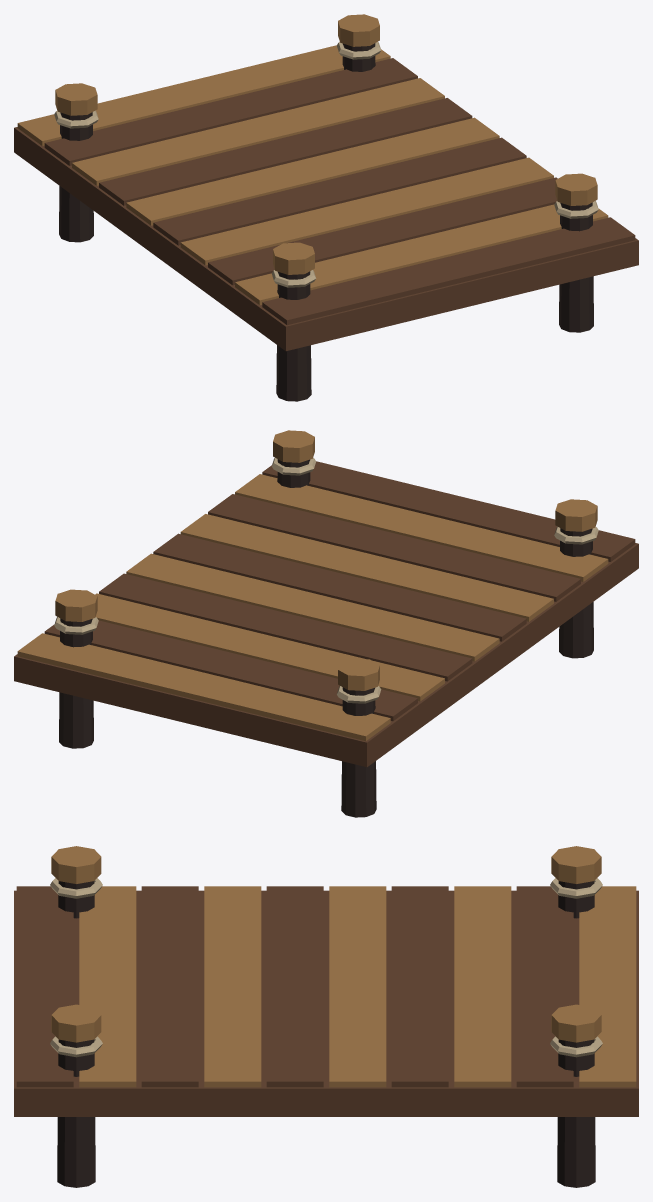
File: PirateCove_DockStraight_Showcase.glb
The picture shows the model from 3 angles, top to bottom: view 1: azimuth 30°, elevation 25°; view 2: azimuth 150°, elevation 25°; view 3: azimuth 270°, elevation 25°; orthographic projection. The views are drawn at different scales.
Parts seen in each view (by area): view 1: PirateCove_DockStraight_Showcase; view 2: PirateCove_DockStraight_Showcase; view 3: PirateCove_DockStraight_Showcase.
Boxes of the visible parts, x1=… form: PirateCove_DockStraight_Showcase: x1=14, y1=14, x2=638, y2=401; PirateCove_DockStraight_Showcase: x1=14, y1=430, x2=638, y2=817; PirateCove_DockStraight_Showcase: x1=14, y1=846, x2=638, y2=1187.
Bounding box in the file's own units: 3 × 1.16 × 4.
